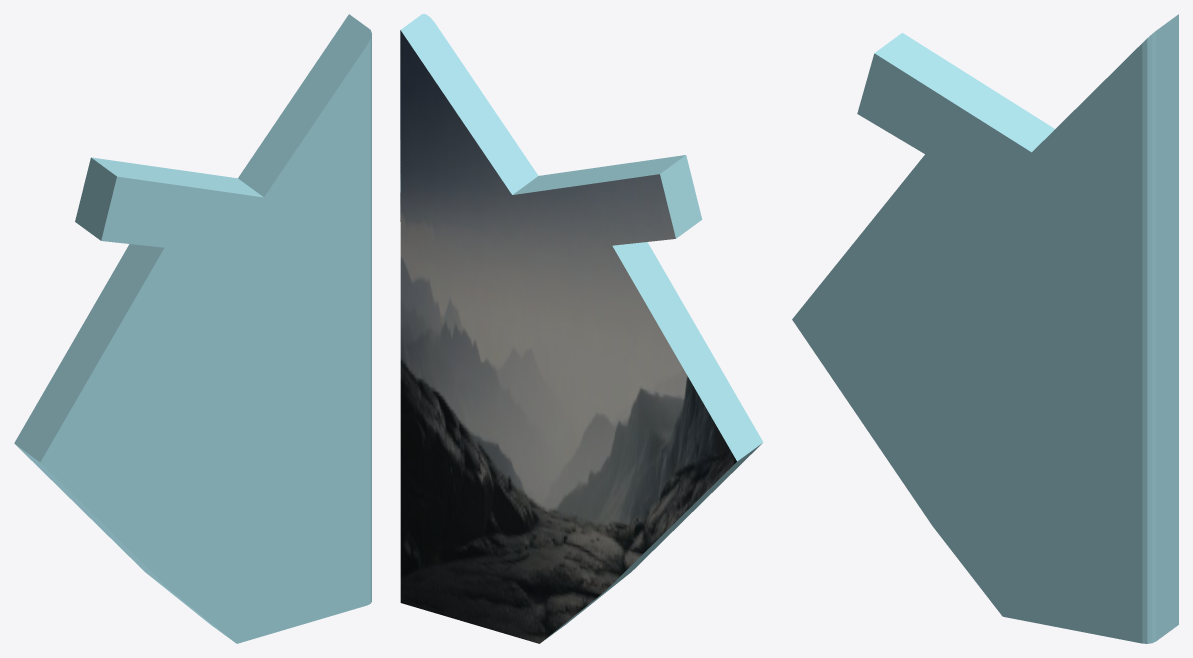
File: monde7.glb
3 views of the same model, side by side, from view 1: azimuth 30°, elevation 25°; view 2: azimuth 150°, elevation 25°; view 3: azimuth 330°, elevation 25° (orthographic). The views are drawn at different scales.
Parts seen in each view (by area): view 1: Plane.010; view 2: Plane.010; view 3: Plane.010.
Boxes of the visible parts, x1,y1,x2,y2 form: Plane.010: (14, 14, 371, 643); Plane.010: (400, 14, 763, 643); Plane.010: (792, 14, 1178, 643).
Size of the model in its own units: 36.94 by 60.81 by 5.
2 materials, 1 textured.
